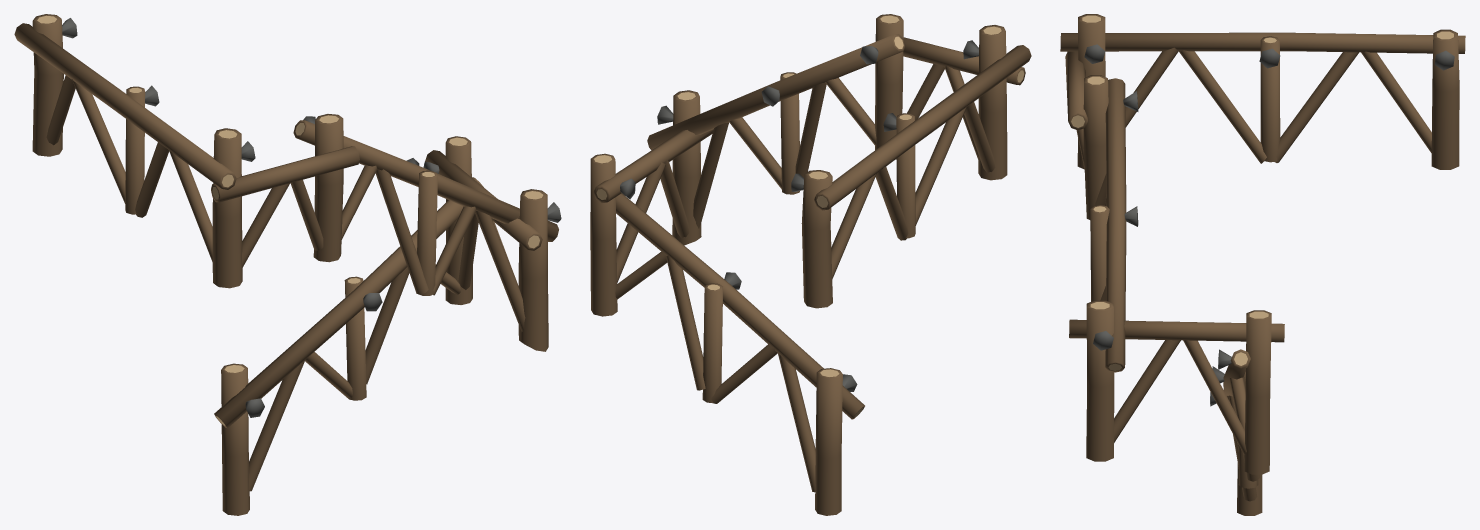
File: rpgpp_ag_stairs_interior_02d_4m_handrail_02.fbx
3 renders of one model, left to right at view 1: azimuth 30°, elevation 25°; view 2: azimuth 150°, elevation 25°; view 3: azimuth 270°, elevation 25°, orthographic. The views are drawn at different scales.
Parts seen in each view (by area): view 1: rpgpp_ag_stairs_interior_02d_4m_handrail_02; view 2: rpgpp_ag_stairs_interior_02d_4m_handrail_02; view 3: rpgpp_ag_stairs_interior_02d_4m_handrail_02.
Part boxes in pixels (left/top/right/bottom): rpgpp_ag_stairs_interior_02d_4m_handrail_02: left=14, top=14, right=561, bottom=515; rpgpp_ag_stairs_interior_02d_4m_handrail_02: left=590, top=14, right=1031, bottom=515; rpgpp_ag_stairs_interior_02d_4m_handrail_02: left=1060, top=14, right=1465, bottom=515.
Bounding box in the file's own units: 4.52 × 5.38 × 4.4.
